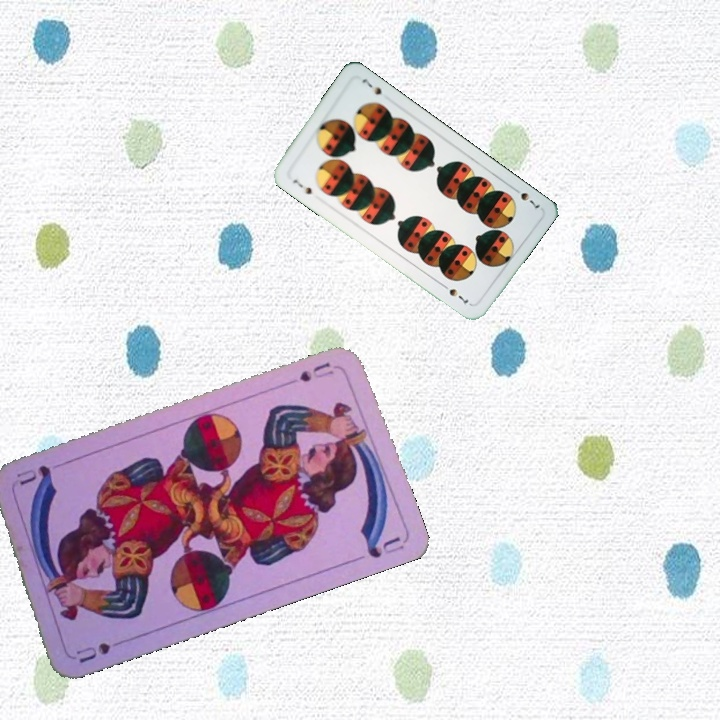S7: (508, 183, 543, 211), (289, 175, 315, 197)
SU: (71, 637, 130, 666), (295, 358, 342, 385)
